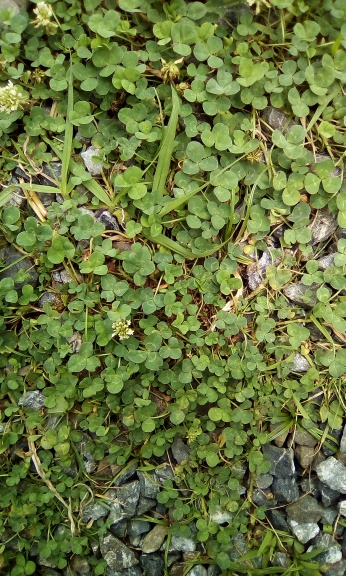4leaf: (122, 248, 155, 286)
